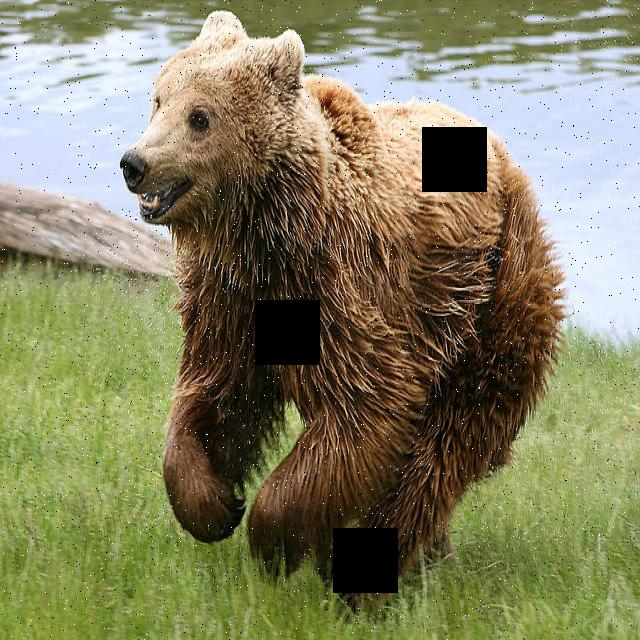Bear: (116, 12, 562, 614)
